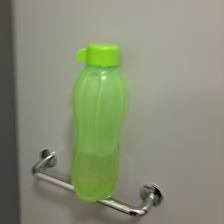bottle: (68, 39, 128, 205)
